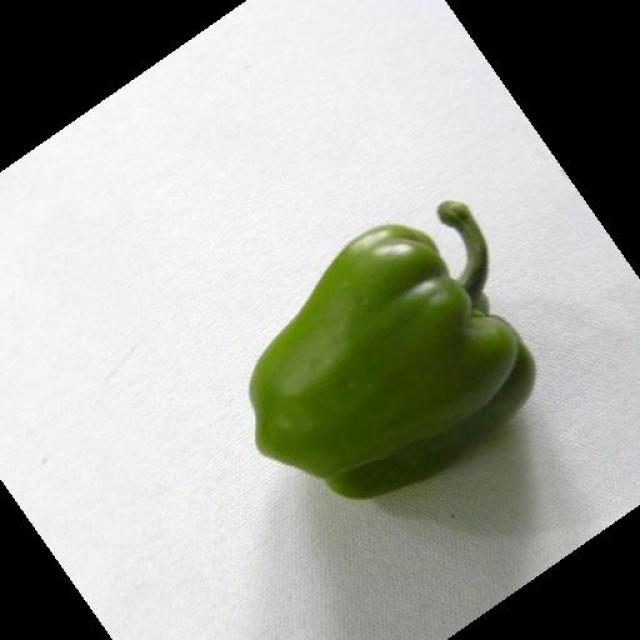Fresh_Capsicum: (232, 255, 523, 460)
